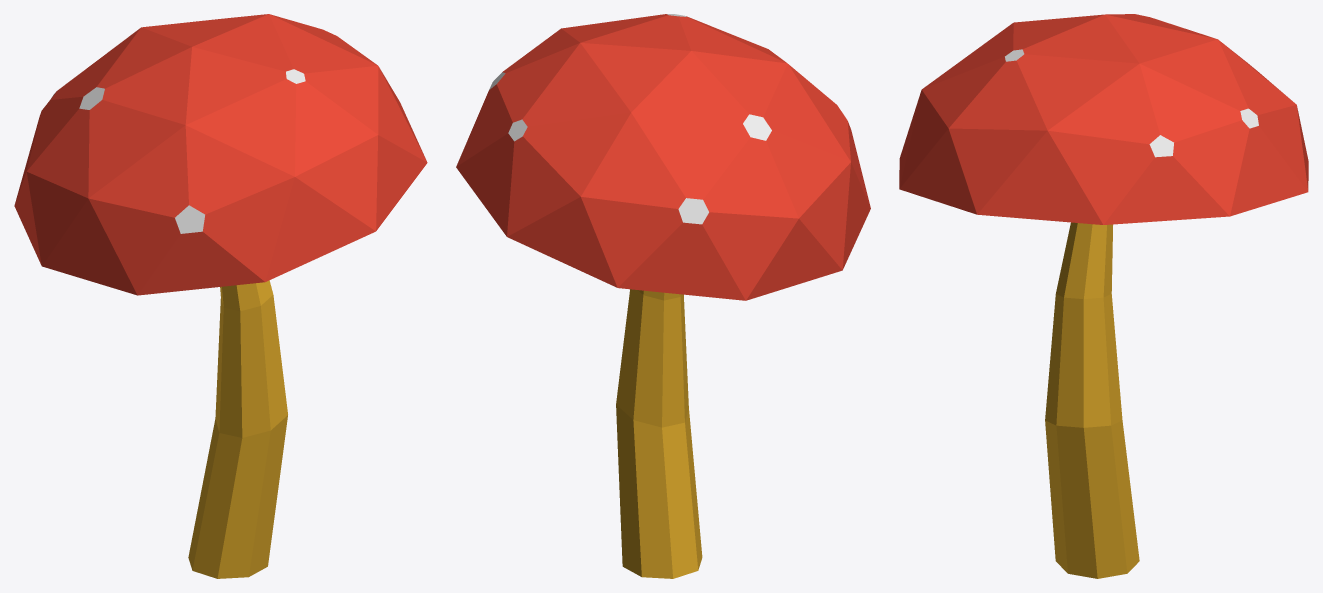
File: mushroom_1.glb
The picture shows the model from 3 angles, left to right: view 1: azimuth 30°, elevation 25°; view 2: azimuth 150°, elevation 25°; view 3: azimuth 270°, elevation 25°; orthographic projection.
Parts seen in each view (by area): view 1: mushroom_1; view 2: mushroom_1; view 3: mushroom_1.
Boxes of the visible parts, x1,y1,x2,y2 form: mushroom_1: [14, 14, 427, 578]; mushroom_1: [456, 14, 870, 578]; mushroom_1: [899, 14, 1308, 578].
Bounding box in the file's own units: 0.4889 × 0.6794 × 0.475.
